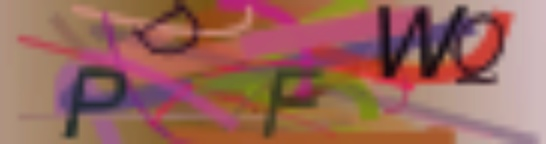D: (127, 1, 203, 59)
P: (58, 63, 131, 138), (260, 66, 330, 143)
Q: (451, 10, 512, 87)
W: (372, 2, 467, 87)
